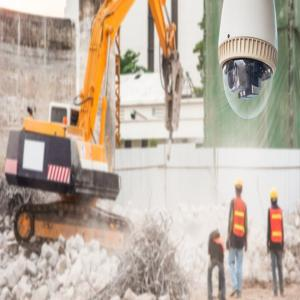yellow: (235, 176, 244, 199), (271, 187, 279, 209)
